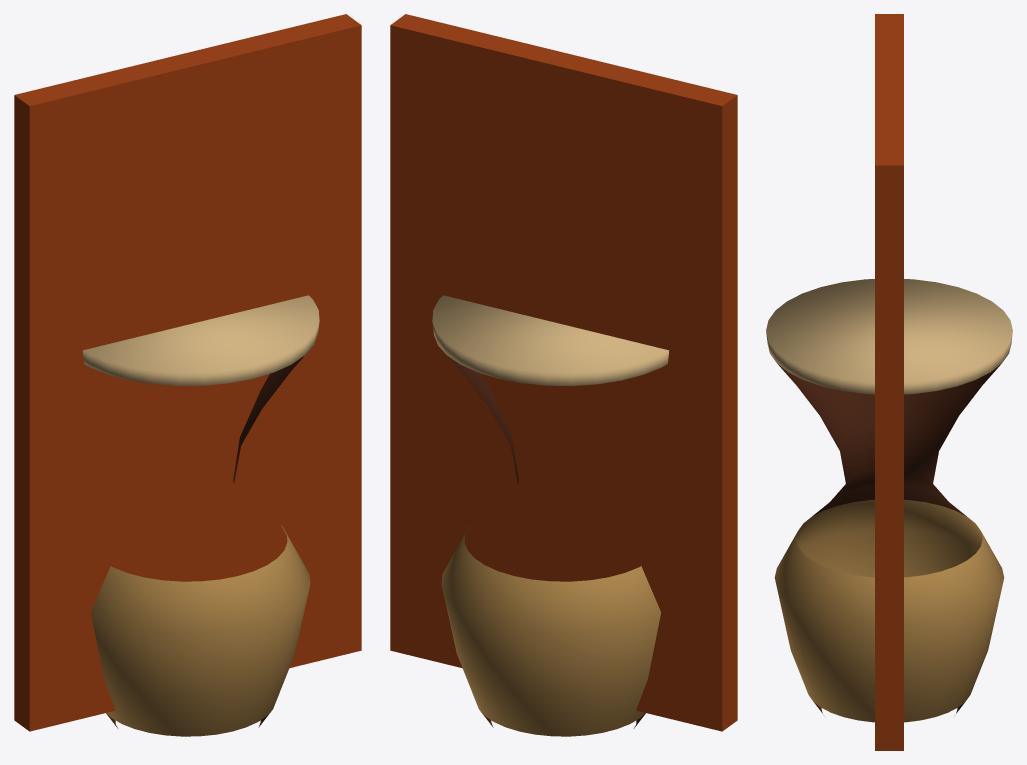
File: african_decor.obj
The picture shows the model from 3 angles, left to right: view 1: azimuth 30°, elevation 25°; view 2: azimuth 150°, elevation 25°; view 3: azimuth 270°, elevation 25°; orthographic projection. The views are drawn at different scales.
Parts seen in each view (by area): view 1: Decor_Panel, Decor_Drum; view 2: Decor_Panel, Decor_Drum; view 3: Decor_Drum, Decor_Panel.
Part boxes in pixels (bbox=[...]): Decor_Panel: bbox=[14, 14, 361, 731]; Decor_Drum: bbox=[82, 295, 319, 736]; Decor_Panel: bbox=[390, 14, 737, 731]; Decor_Drum: bbox=[432, 295, 669, 736]; Decor_Drum: bbox=[766, 279, 1012, 722]; Decor_Panel: bbox=[875, 14, 903, 750].
Size of the model in its own units: 0.5 by 0.95 by 0.344.
